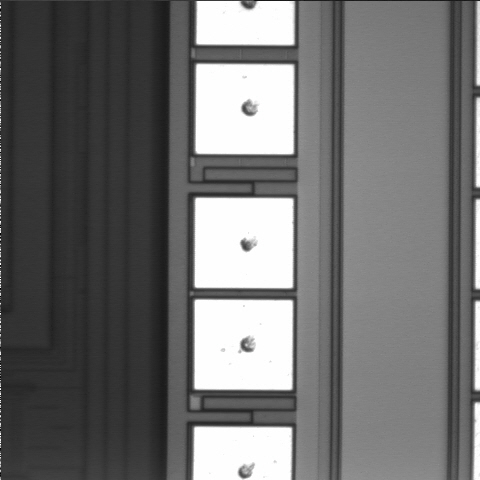pad: (196, 64, 294, 154), (195, 198, 293, 288), (195, 300, 293, 390)
